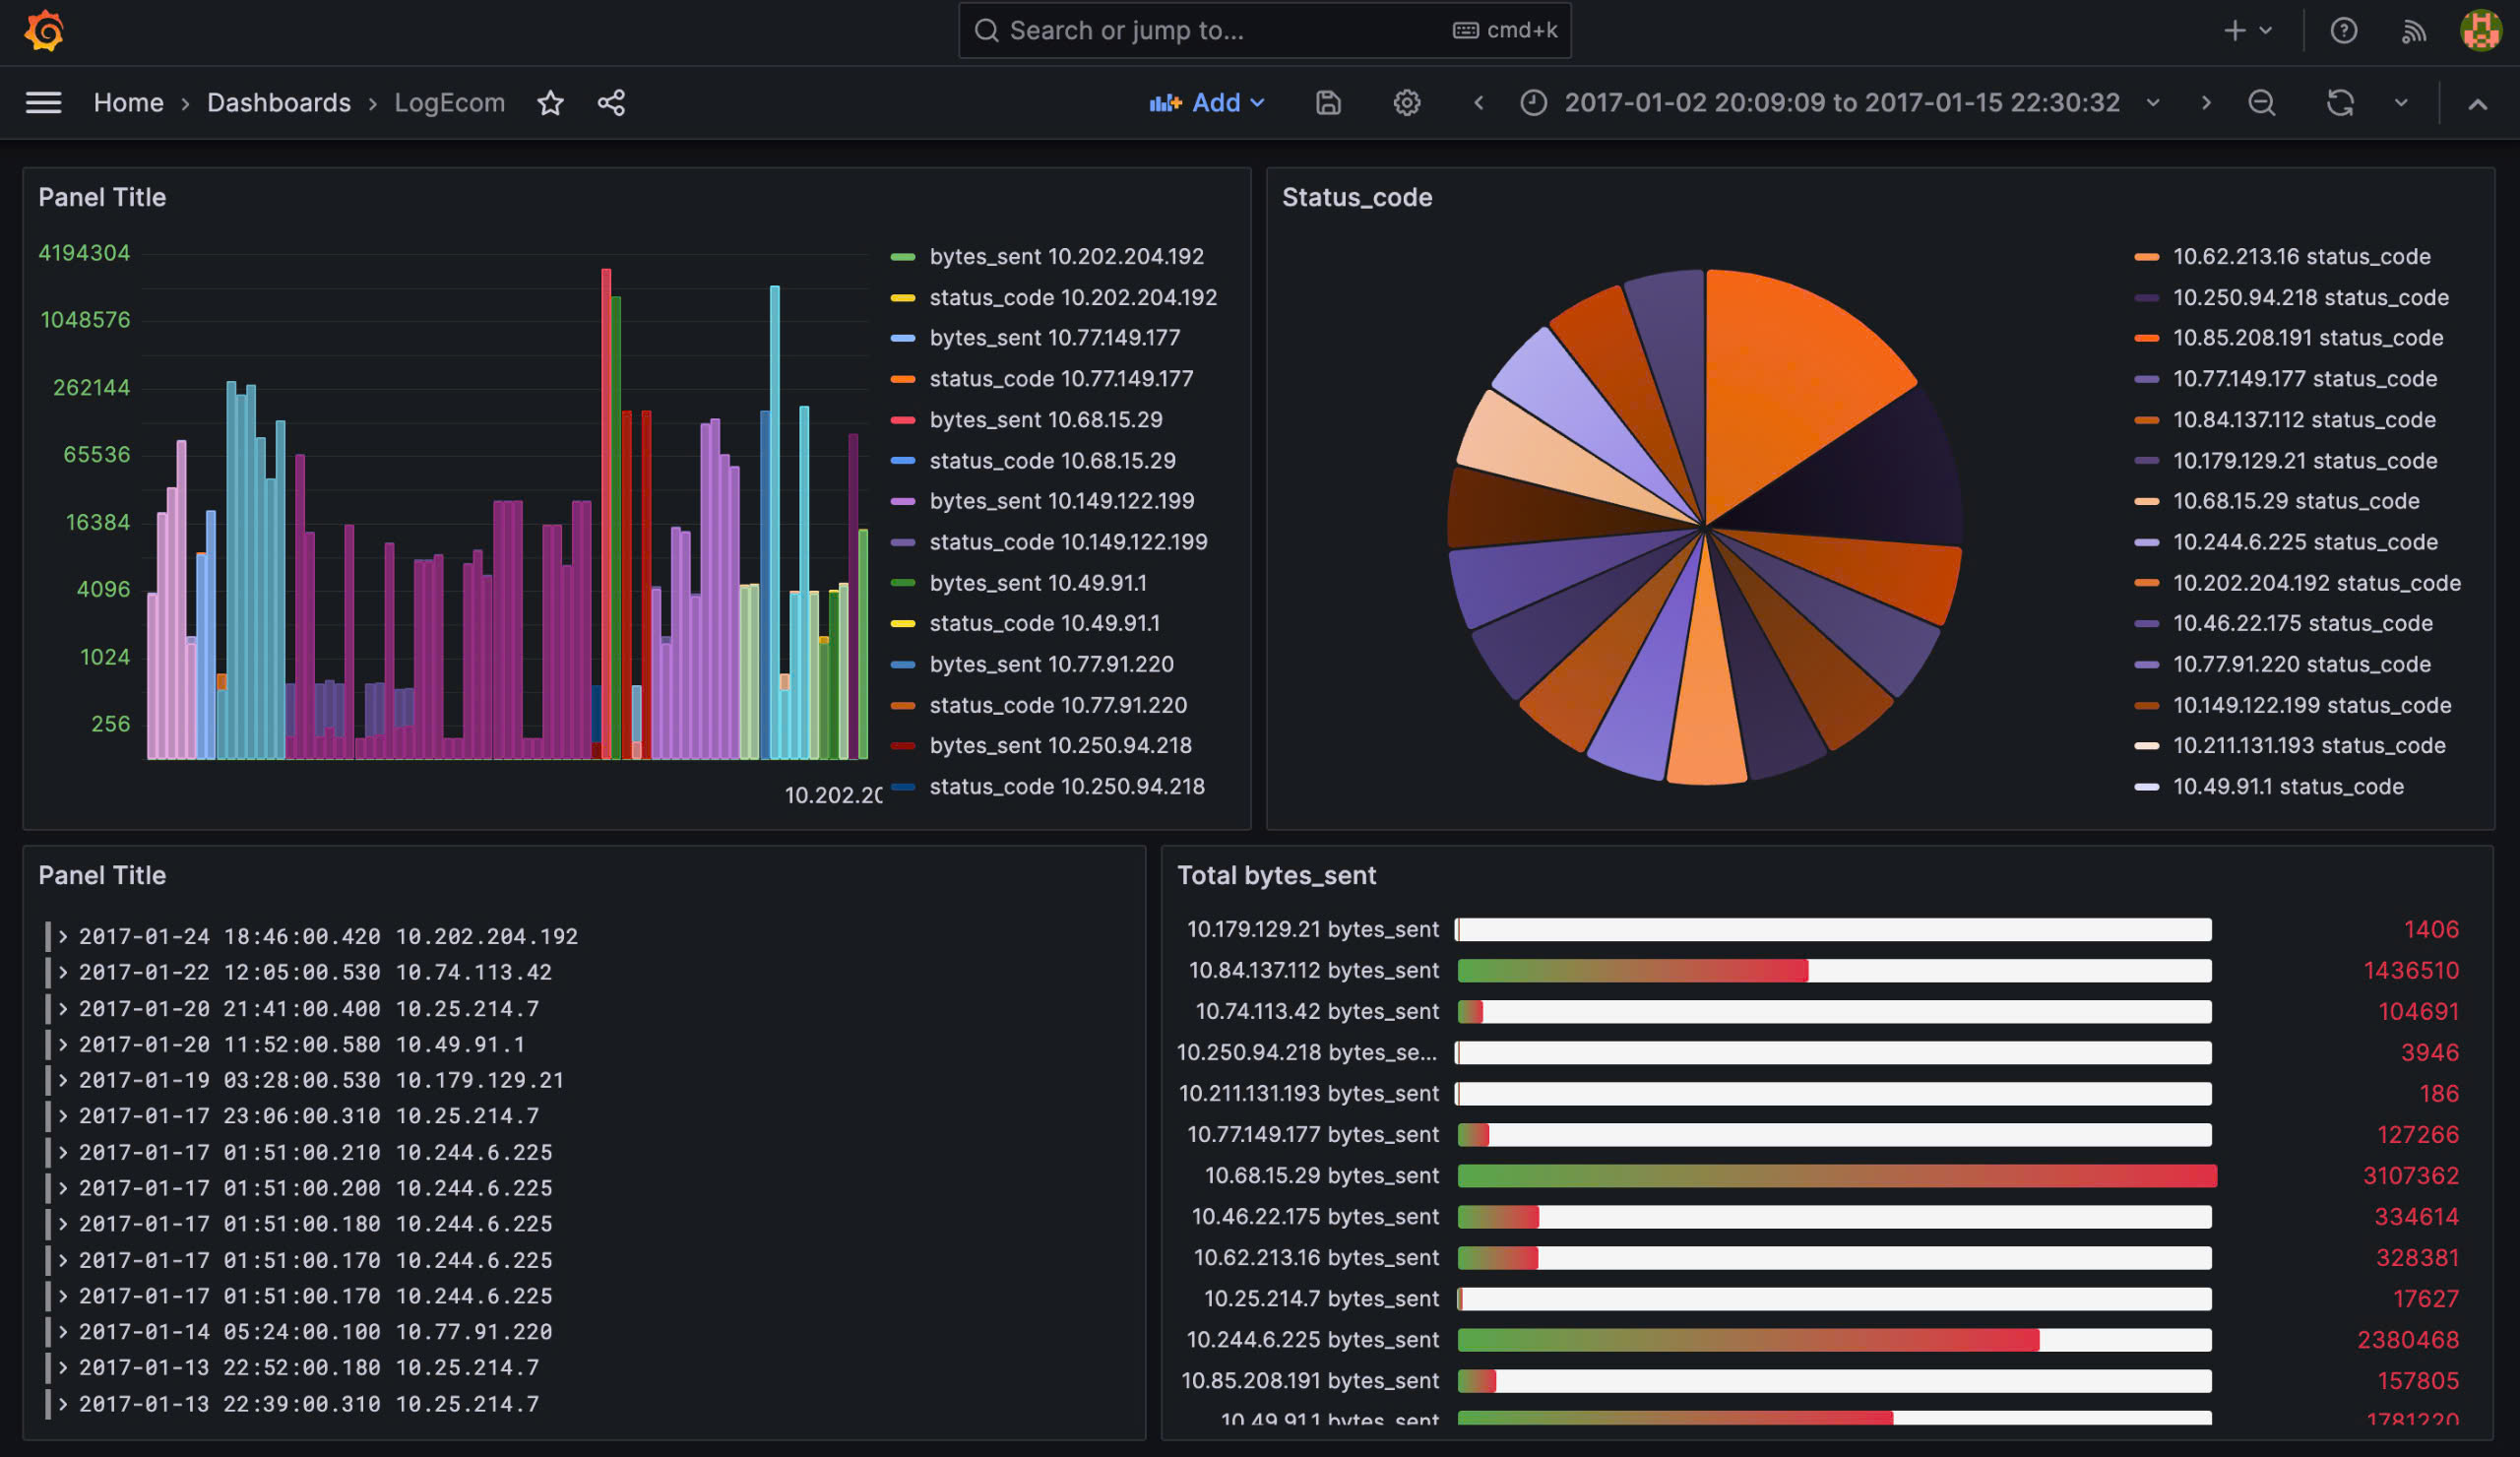

The dashboard page shown, as its layout file describes it:
{"tool":"powerbi","page":{"name":"Log","canvas":[1280,720],"ordinal":1},"visuals":[{"type":"columnChart","fields":{"Y":["Sum(logs.bytes_sent)"],"Category":["logs.ip_address"]},"box":[10.4,0,629.6,359.5],"z":0},{"type":"pieChart","fields":{"Category":["logs.status_code"],"Y":["Avg(logs.bytes_sent)"]},"box":[10,370,483,350],"z":1},{"type":"areaChart","fields":{"Category":["logs.status_code"],"Y":["Avg(logs.bytes_sent)"]},"box":[640,0,640,359.5],"z":2},{"type":"funnel","fields":{"Y":["Sum(logs.bytes_sent)"],"Category":["logs.status_code"]},"box":[493.8,370,786.2,350.6],"z":3}]}

Visuals, with their boxes on the page's 1280x720 design canvas (x1, y1, x2, y2). These are canvas units, not pixel positions in the 2520x1457 screenshot, which may show the page scaled, cropped or inside an application window:
columnChart - Sum(logs.bytes_sent) x logs.ip_address: locate(10, 0, 640, 360)
pieChart - logs.status_code x Avg(logs.bytes_sent): locate(10, 370, 493, 720)
areaChart - logs.status_code x Avg(logs.bytes_sent): locate(640, 0, 1280, 360)
funnel - Sum(logs.bytes_sent) x logs.status_code: locate(494, 370, 1280, 721)
